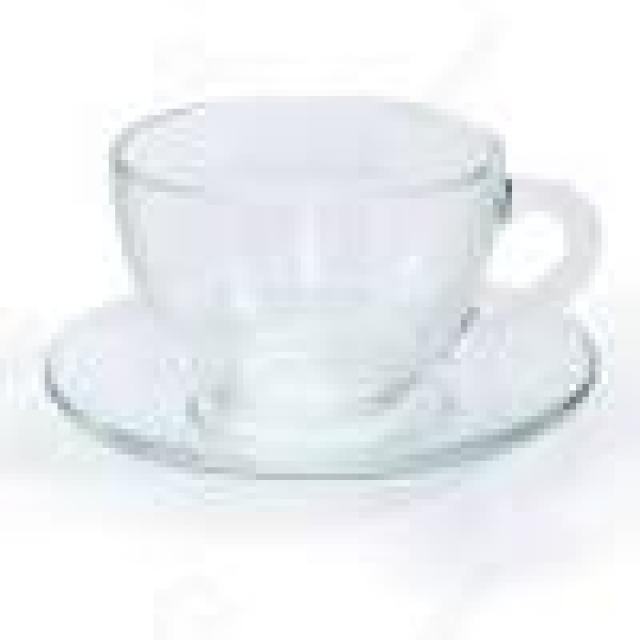taza: (90, 82, 605, 436)
